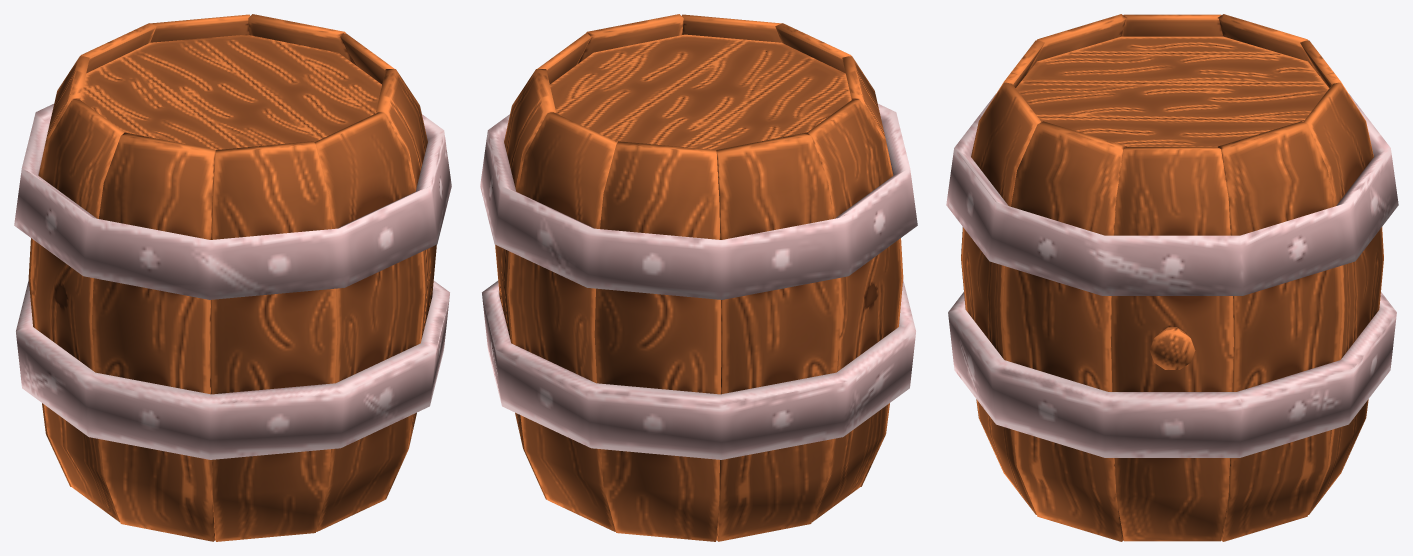
The model's file is Prop_Barrel_v01.gltf.
3 views of the same model, side by side, from view 1: azimuth 30°, elevation 25°; view 2: azimuth 150°, elevation 25°; view 3: azimuth 270°, elevation 25° (orthographic).
Visible parts, largest first — view 1: Prop_Barrel_v01; view 2: Prop_Barrel_v01; view 3: Prop_Barrel_v01.
Part boxes in pixels (left/top/right/bottom): Prop_Barrel_v01: left=14, top=14, right=451, bottom=541; Prop_Barrel_v01: left=480, top=14, right=917, bottom=541; Prop_Barrel_v01: left=946, top=14, right=1398, bottom=541.
Bounding box in the file's own units: 1.55 × 1.51 × 1.58.
1 material, 1 textured.
